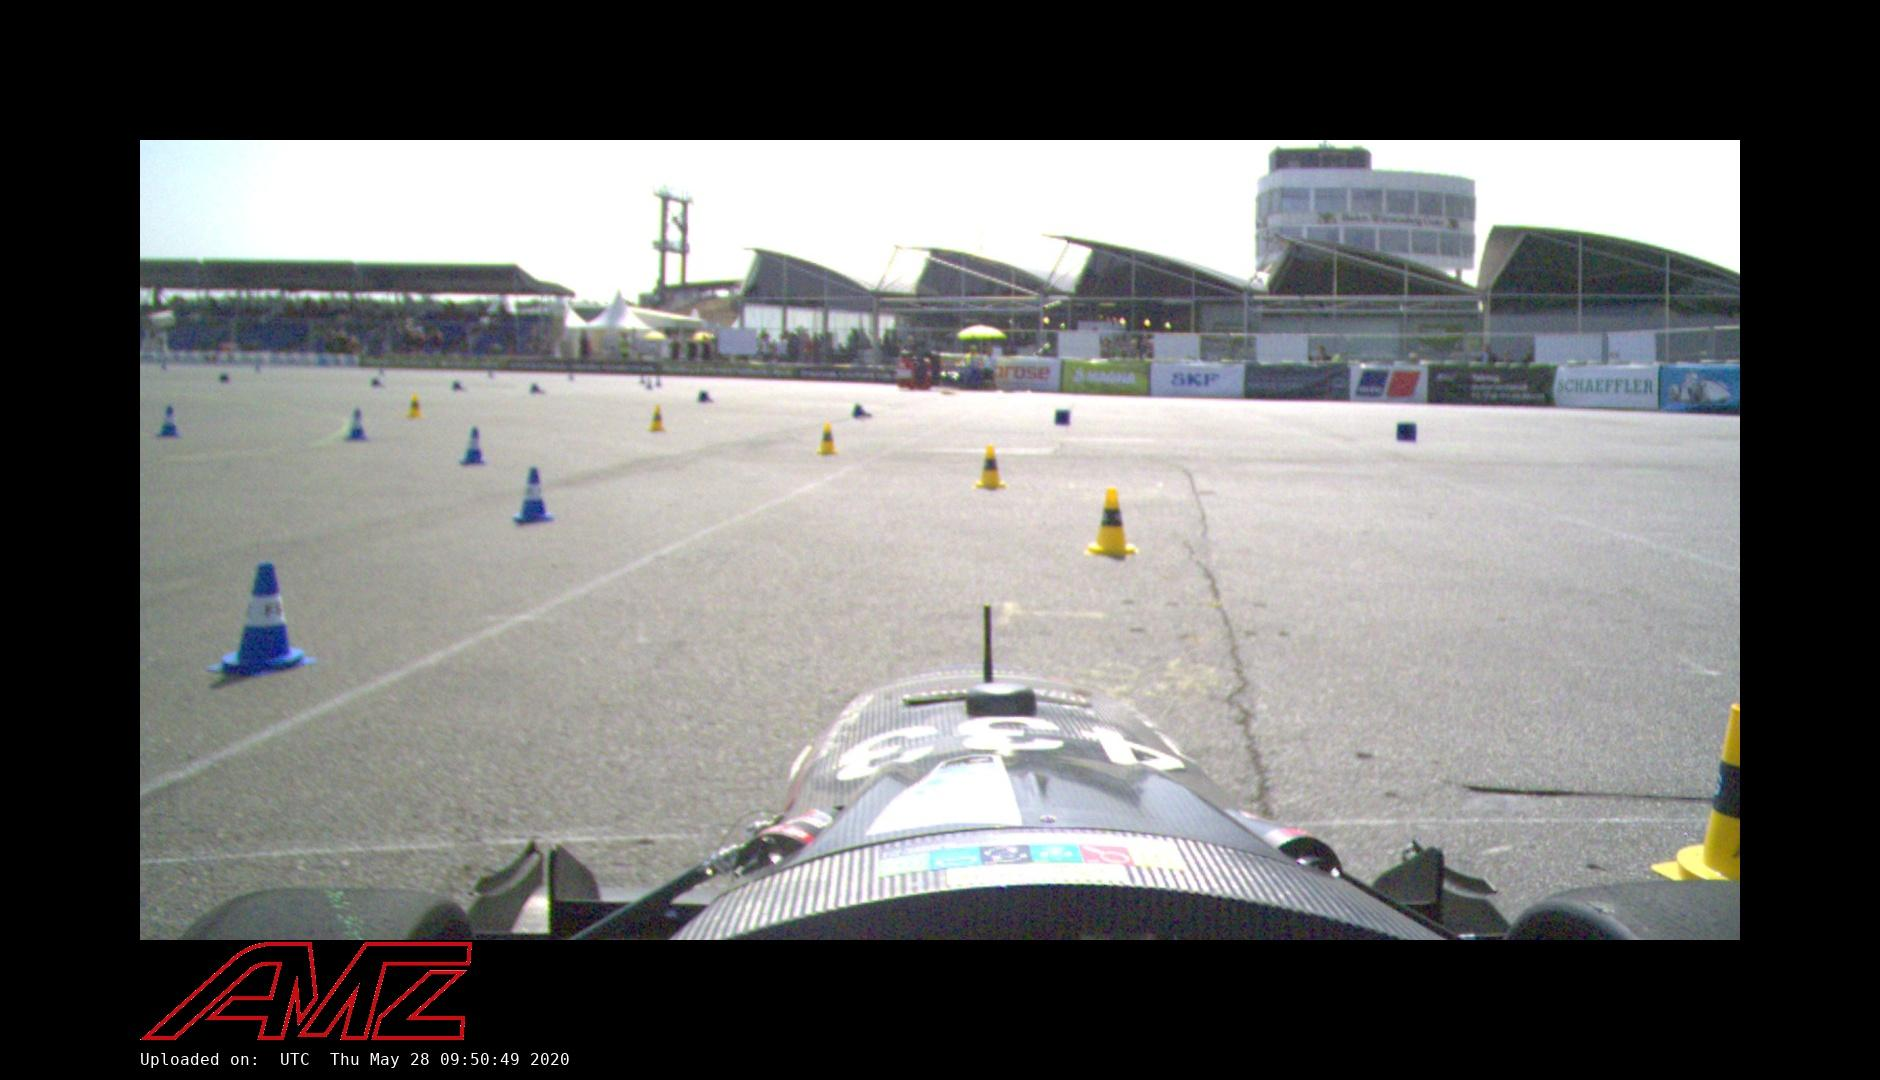blue_cone: (218, 561, 309, 674), (510, 466, 554, 527), (456, 425, 488, 466), (342, 406, 371, 443), (158, 403, 179, 441), (850, 403, 872, 419), (696, 390, 715, 404), (528, 382, 546, 395), (451, 380, 469, 393), (371, 376, 386, 388)
yellow_cone: (1660, 695, 1739, 894), (1085, 486, 1139, 558), (972, 444, 1006, 491), (813, 421, 841, 457), (646, 404, 668, 434), (405, 391, 426, 420)
